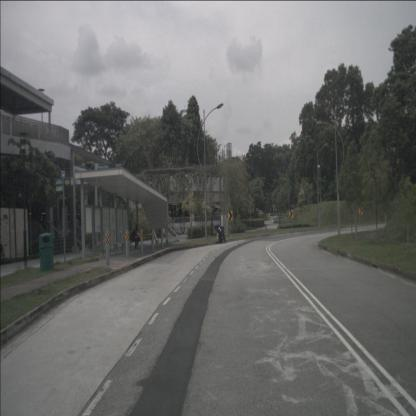human-pedestrian-adult: (213, 224, 227, 247), (130, 227, 139, 249), (135, 224, 140, 248)
vehicle-motorcycle: (214, 224, 226, 244)
